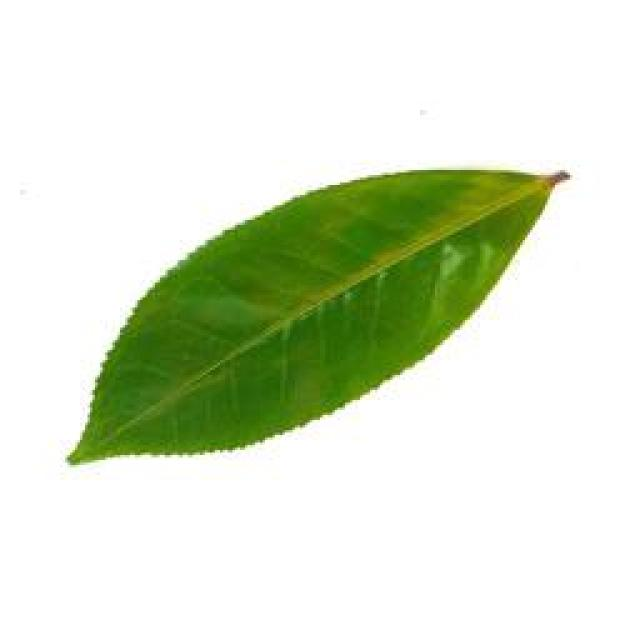Healthy: (52, 164, 568, 476)
